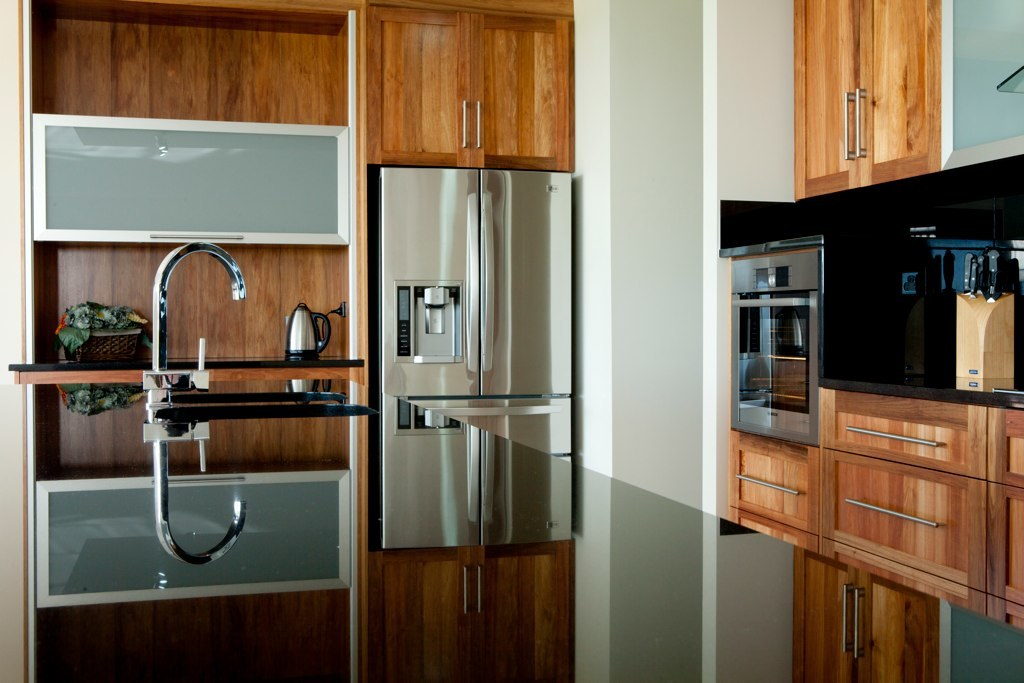cabinet door: (33, 118, 349, 251), (369, 5, 471, 159), (473, 10, 573, 165), (830, 460, 982, 552), (859, 13, 934, 167), (798, 14, 860, 184), (835, 399, 978, 463), (731, 444, 825, 513), (999, 488, 1024, 592), (991, 415, 1024, 471)
handle: (433, 397, 561, 426), (463, 196, 482, 370), (851, 495, 942, 529), (845, 421, 943, 451), (482, 197, 497, 371), (737, 472, 808, 498), (468, 428, 486, 511), (151, 230, 250, 245), (484, 434, 500, 516), (450, 97, 470, 151), (842, 85, 855, 166), (475, 98, 490, 148), (856, 90, 866, 165)
refrigerator door: (379, 161, 479, 401), (482, 175, 573, 388), (380, 399, 481, 539), (489, 437, 571, 535), (454, 391, 562, 445)
